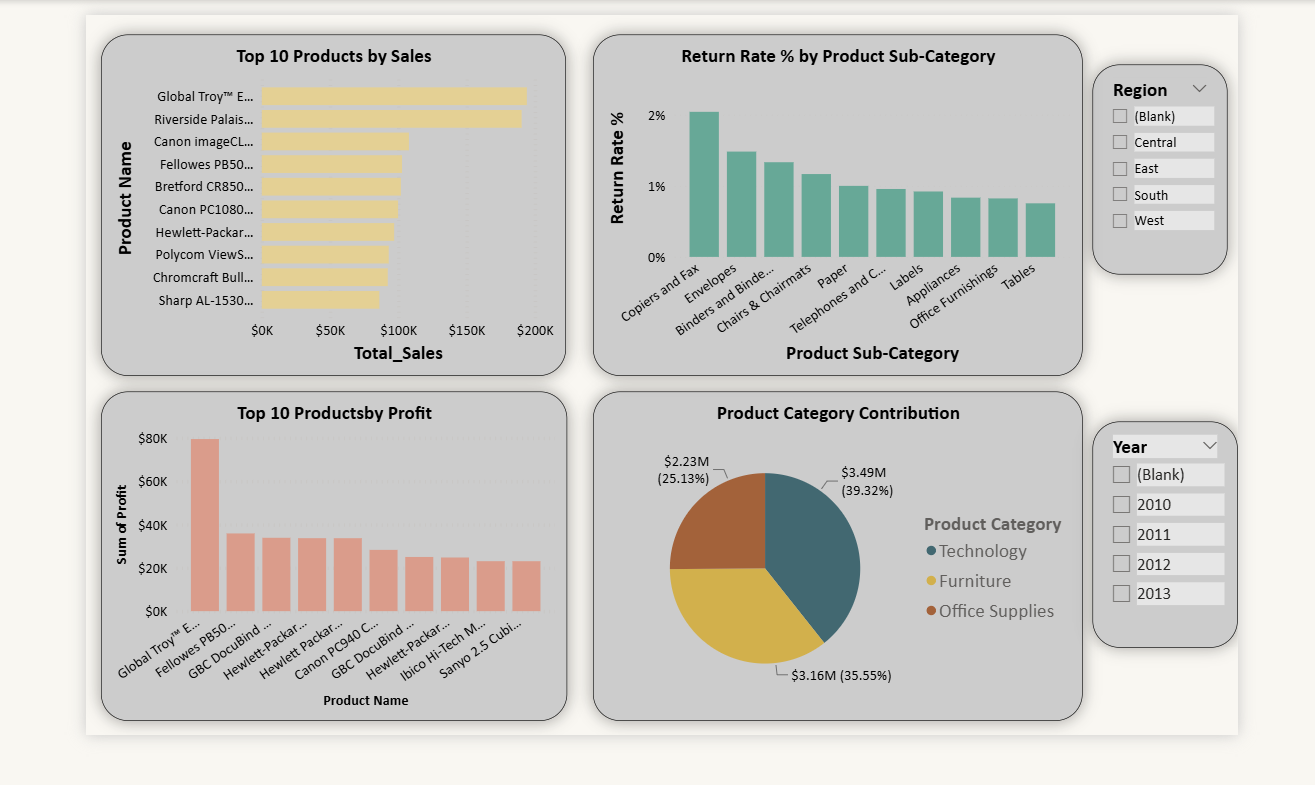

What the dashboard file says about the page in this screenshot:
{"tool":"powerbi","page":{"name":"Product Analysis","canvas":[1280,800],"ordinal":5},"visuals":[{"type":"clusteredBarChart","title":"Top 10 Products by Sales","fields":{"Category":["DmProducts.Product Name"],"Y":["Orders.Total_Sales"]},"box":[16.8,21.3,516.6,379.4],"z":0},{"type":"clusteredColumnChart","title":"Top 10 Productsby Profit","fields":{"Y":["Sum(Orders.Profit)"],"Category":["DmProducts.Product Name"]},"box":[16.8,419,518.1,365.7],"z":1000},{"type":"pieChart","title":"Product Category  Contribution","fields":{"Category":["DmProducts.Product Category"],"Y":["Orders.Total_Sales"]},"box":[563.8,419,544,365.7],"z":2000},{"type":"slicer","fields":{"Values":["DmCustomer.Region"]},"box":[1119,54.5,149.9,233.2],"z":3000},{"type":"slicer","fields":{"Values":["DmDate.Year"]},"box":[1118.5,451,161.5,251.4],"z":4000},{"type":"clusteredColumnChart","fields":{"Category":["DmProducts.Product Sub-Category"],"Y":["Orders.Return Rate %"]},"box":[563.8,21.3,544,379.4],"z":5000}]}

Visuals, with their boxes on the page's 1280x800 design canvas (x1, y1, x2, y2). These are canvas units, not pixel positions in the 1315x785 screenshot, which may show the page scaled, cropped or inside an application window:
"Top 10 Products by Sales" clusteredBarChart: {"x1": 17, "y1": 21, "x2": 533, "y2": 401}
"Top 10 Productsby Profit" clusteredColumnChart: {"x1": 17, "y1": 419, "x2": 535, "y2": 785}
"Product Category  Contribution" pieChart: {"x1": 564, "y1": 419, "x2": 1108, "y2": 785}
slicer - DmCustomer.Region: {"x1": 1119, "y1": 54, "x2": 1269, "y2": 288}
slicer - DmDate.Year: {"x1": 1118, "y1": 451, "x2": 1280, "y2": 702}
clusteredColumnChart - DmProducts.Product Sub-Category x Orders.Return Rate %: {"x1": 564, "y1": 21, "x2": 1108, "y2": 401}
